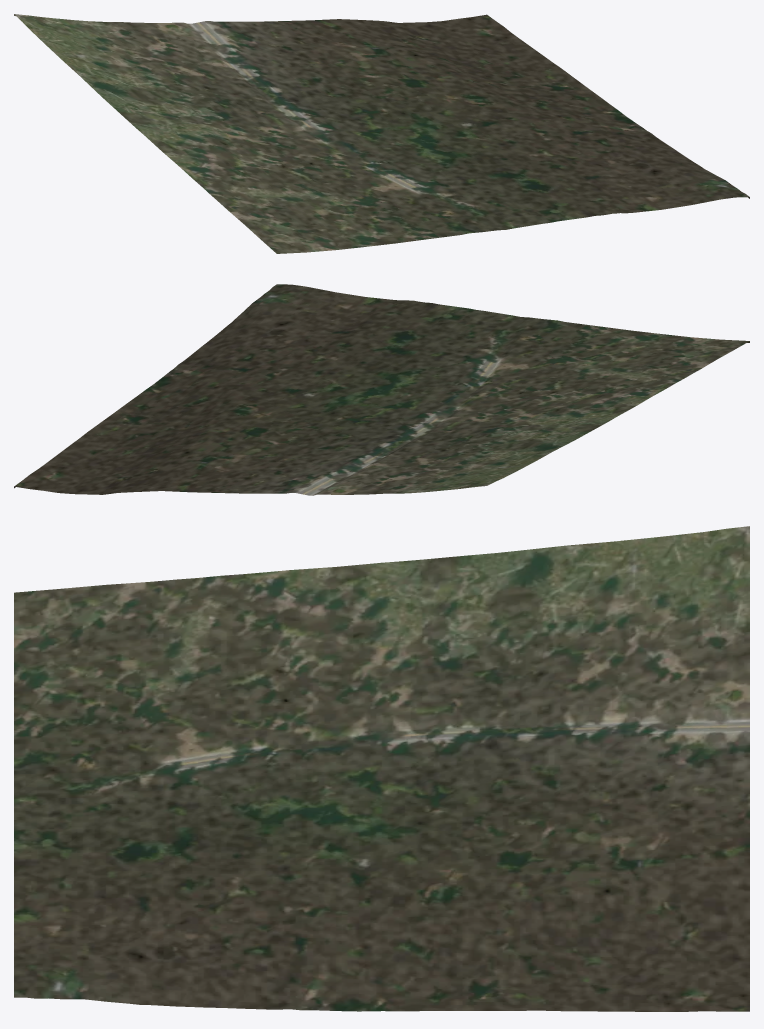
3 renders of one model, top to bottom at view 1: azimuth 30°, elevation 25°; view 2: azimuth 150°, elevation 25°; view 3: azimuth 270°, elevation 25°, orthographic. The views are drawn at different scales.
Size of the model in its own units: 250 by 59.75 by 241.
Materials: 1 (1 with a texture image).
